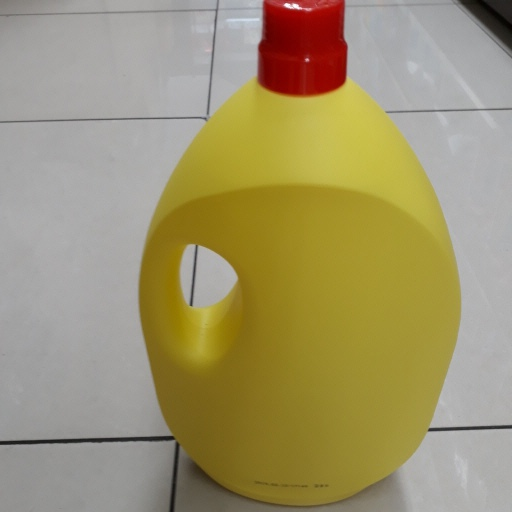Plastic_1: (143, 1, 462, 503)
